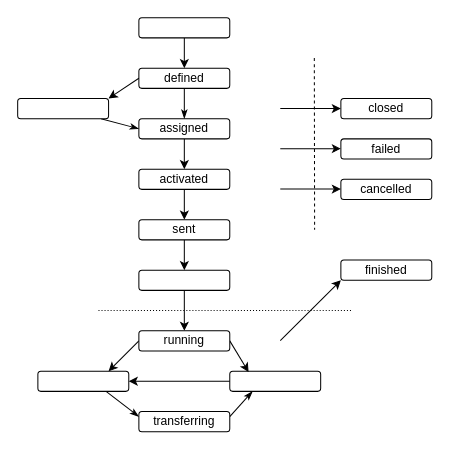
Image size: 449x449. Some labels were removed from this diagram. Here are the shapes that lost their labels. From the top down, the box of each, then its label:
(138, 17, 230, 38): pending
(17, 97, 109, 119): waiting
(138, 269, 230, 290): starting
(37, 370, 129, 391): holding
(229, 370, 321, 391): merging
